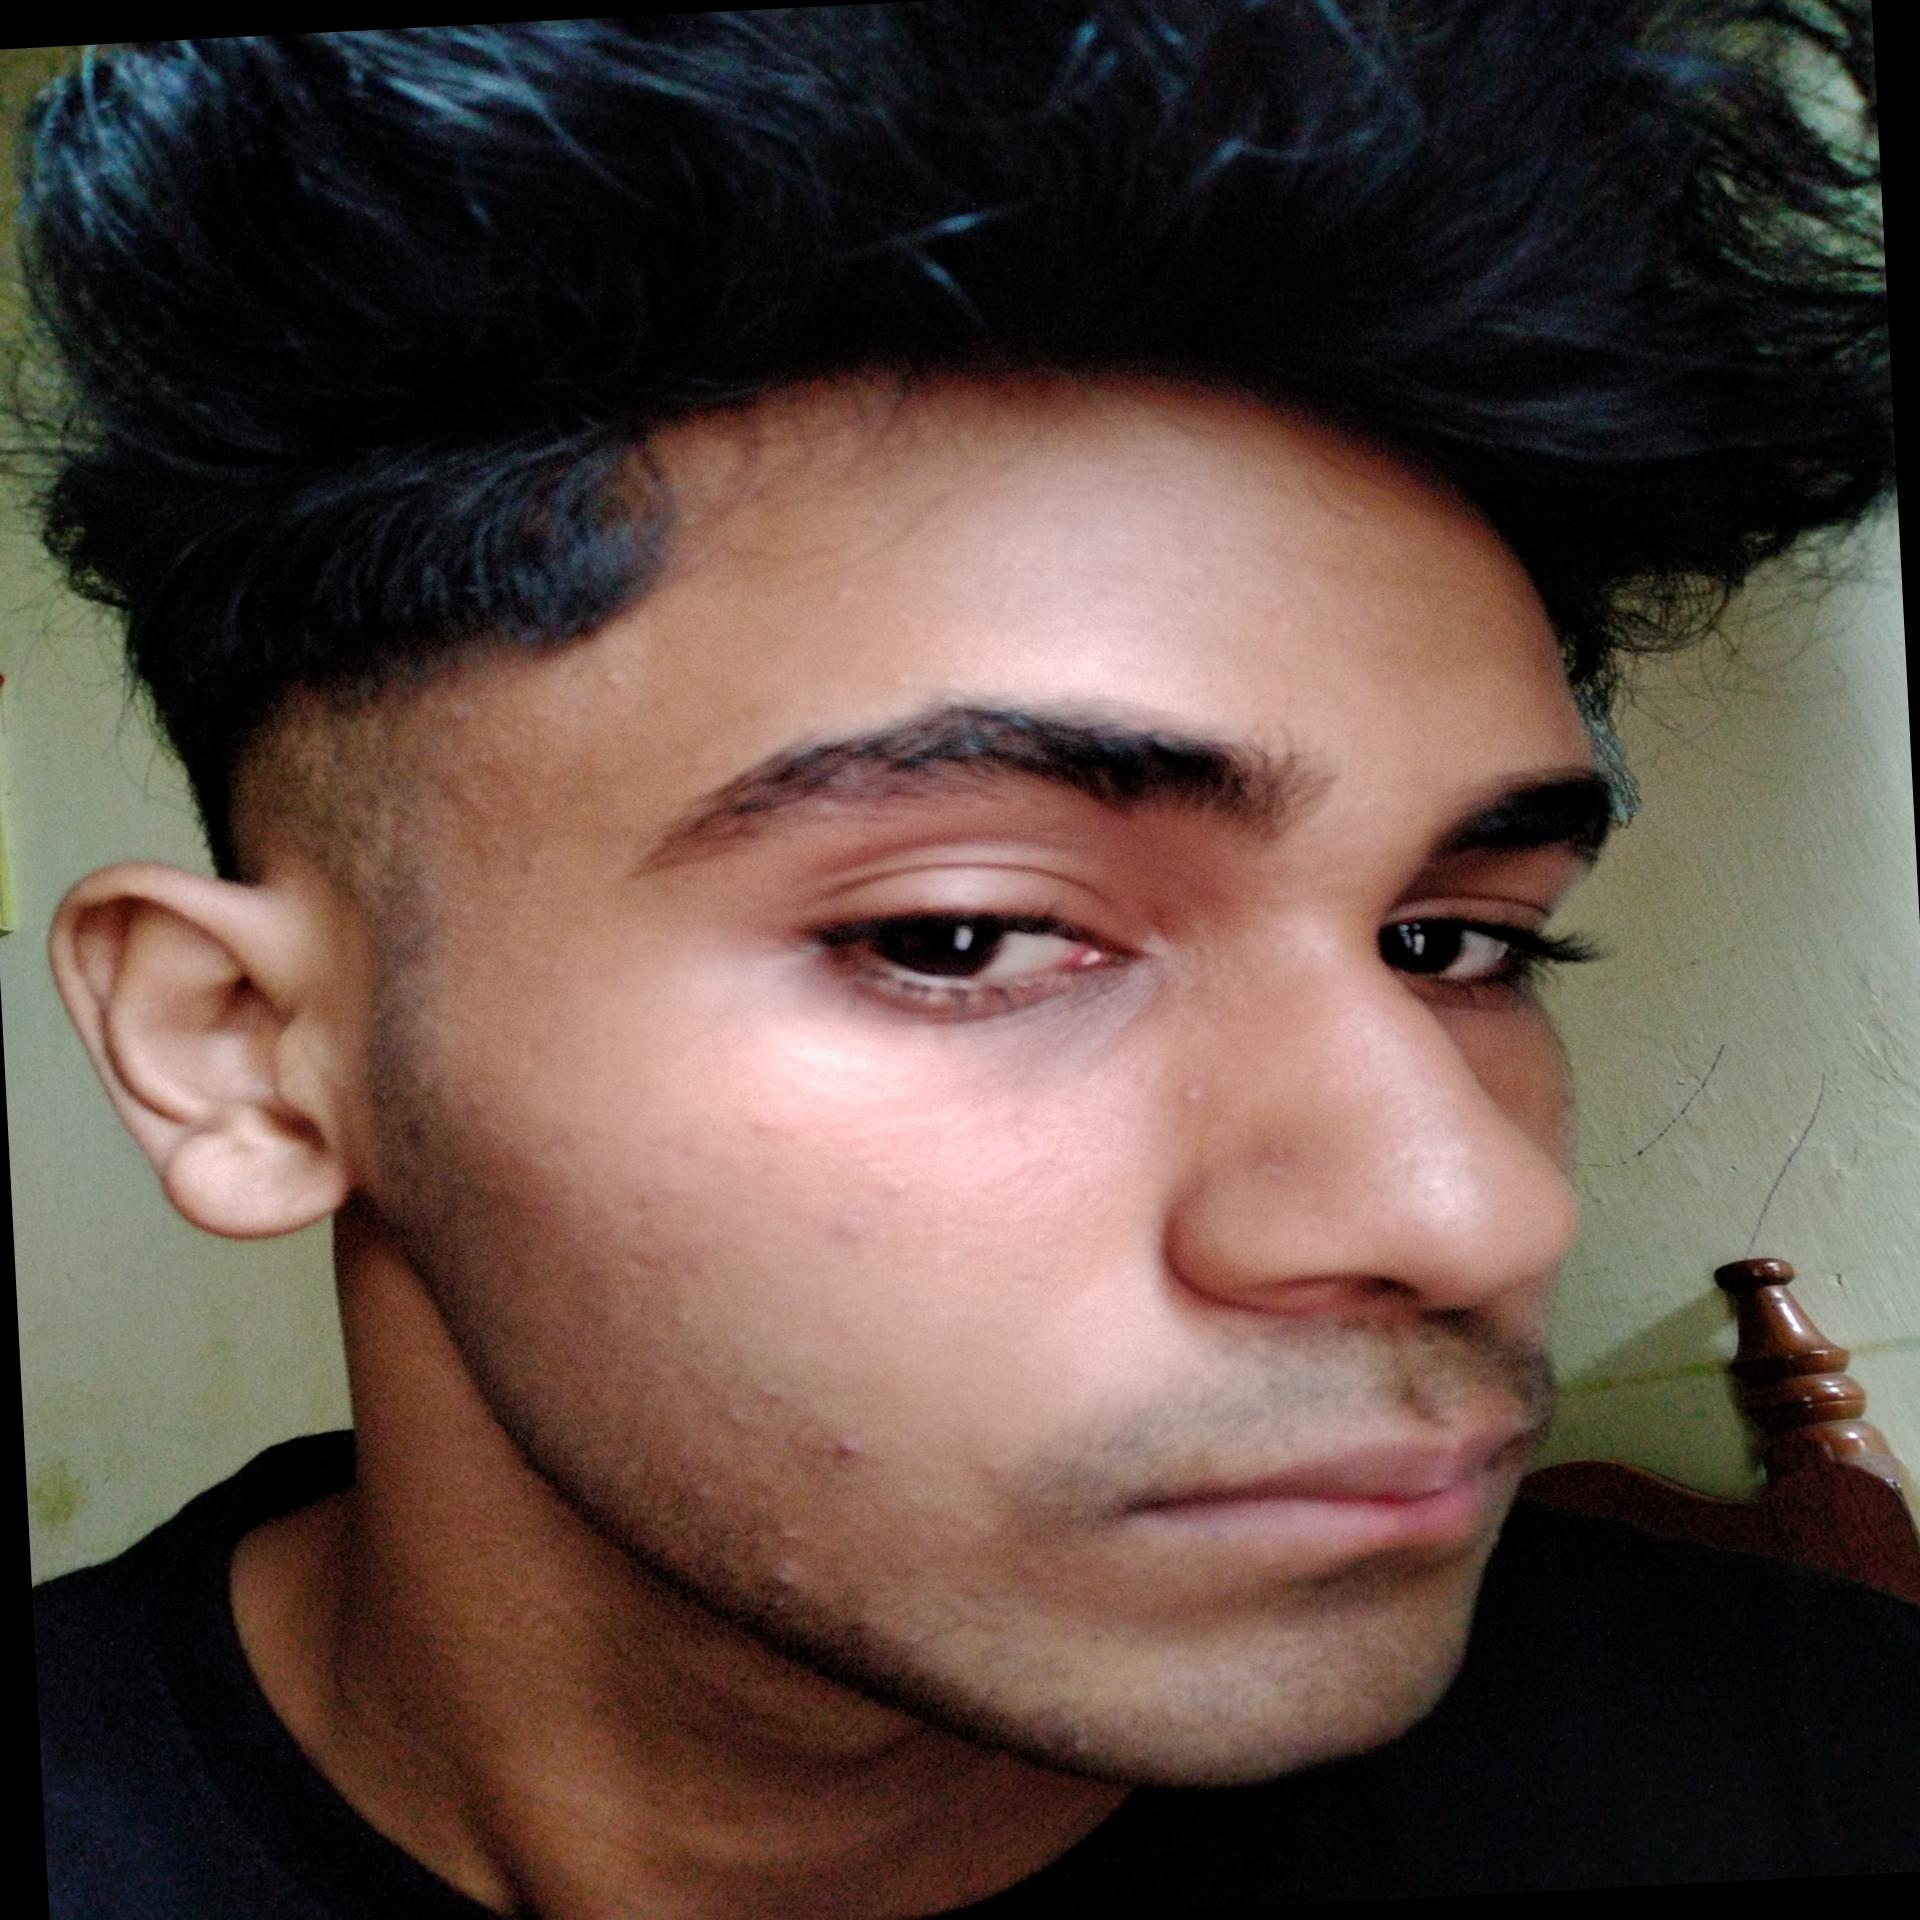Acne: (1241, 1138, 1308, 1187), (814, 1210, 879, 1257), (1166, 1060, 1218, 1118), (753, 1549, 809, 1600), (640, 1299, 698, 1347), (812, 1428, 870, 1466), (742, 1113, 793, 1148), (960, 1461, 1011, 1495), (680, 1477, 723, 1510), (751, 1387, 791, 1421), (886, 1155, 923, 1185), (772, 1530, 812, 1553)
